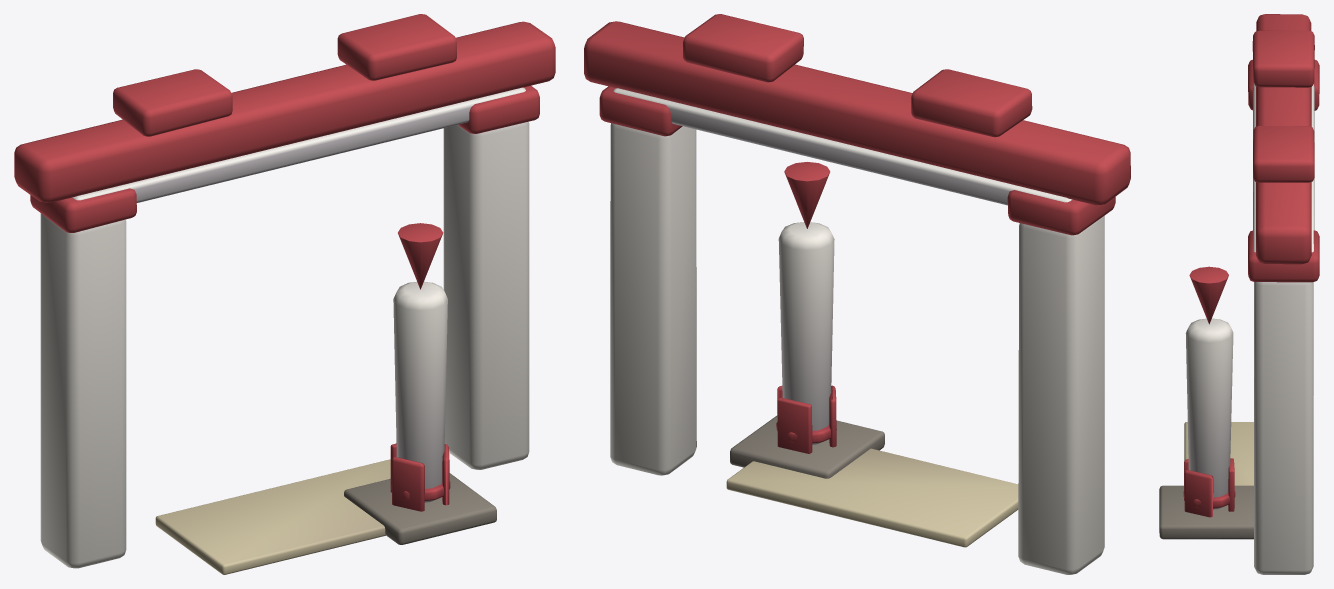
3 renders of one model, left to right at view 1: azimuth 30°, elevation 25°; view 2: azimuth 150°, elevation 25°; view 3: azimuth 270°, elevation 25°, orthographic. The views are drawn at different scales.
Visible parts, largest first — view 1: gate_5ab26dfe; view 2: gate_5ab26dfe; view 3: gate_5ab26dfe.
Boxes of the visible parts, x1=… form: gate_5ab26dfe: x1=14, y1=14, x2=555, y2=574; gate_5ab26dfe: x1=584, y1=14, x2=1130, y2=574; gate_5ab26dfe: x1=1159, y1=14, x2=1319, y2=574.
Bounding box in the file's own units: 5.23 × 4.32 × 1.61.
